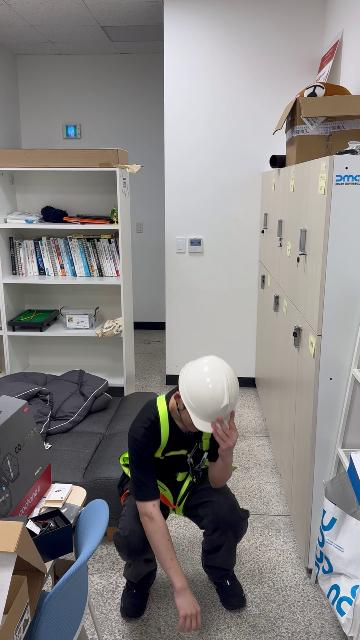helmet_worn: (178, 357, 240, 431)
shoe_worn: (120, 567, 158, 619), (205, 564, 246, 611)
vest_worn: (127, 395, 214, 513)
